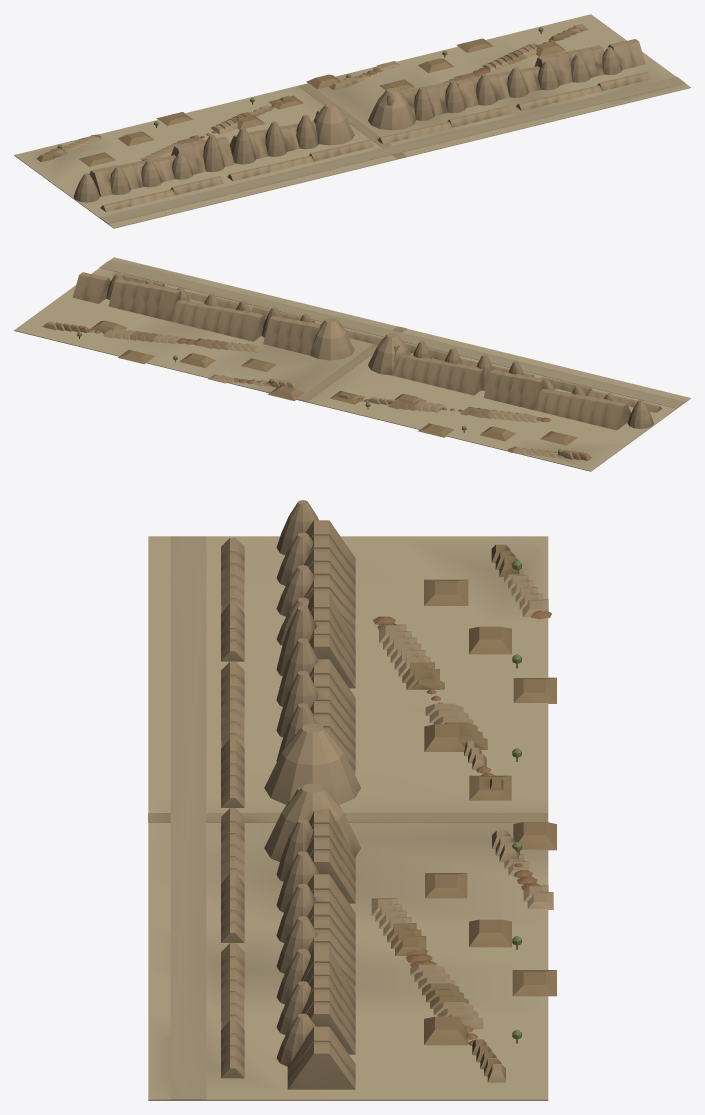
File: sultan-kala-walls-ruin.glb
3 renders of one model, top to bottom at view 1: azimuth 30°, elevation 25°; view 2: azimuth 150°, elevation 25°; view 3: azimuth 270°, elevation 25°, orthographic. The views are drawn at different scales.
Visible parts, largest first — view 1: p0_ground, p1_ruins; view 2: p0_ground, p1_ruins; view 3: p0_ground, p1_ruins.
Boxes of the visible parts, box(x1,y1,x2,y2) form: p0_ground: box(14, 14, 690, 228); p1_ruins: box(36, 24, 650, 212); p0_ground: box(14, 257, 690, 471); p1_ruins: box(42, 272, 662, 460); p0_ground: box(148, 536, 548, 1100); p1_ruins: box(148, 500, 556, 1089).
Size of the model in its own units: 300 by 15.61 by 92.12.
